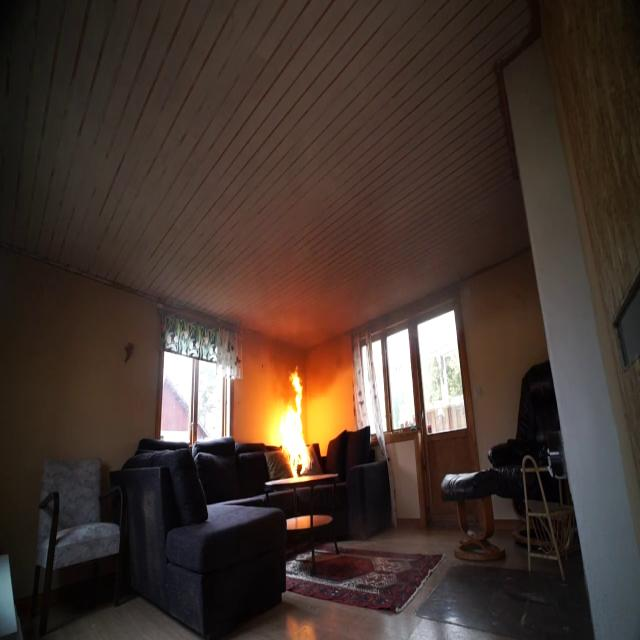fire: (278, 364, 312, 480)
